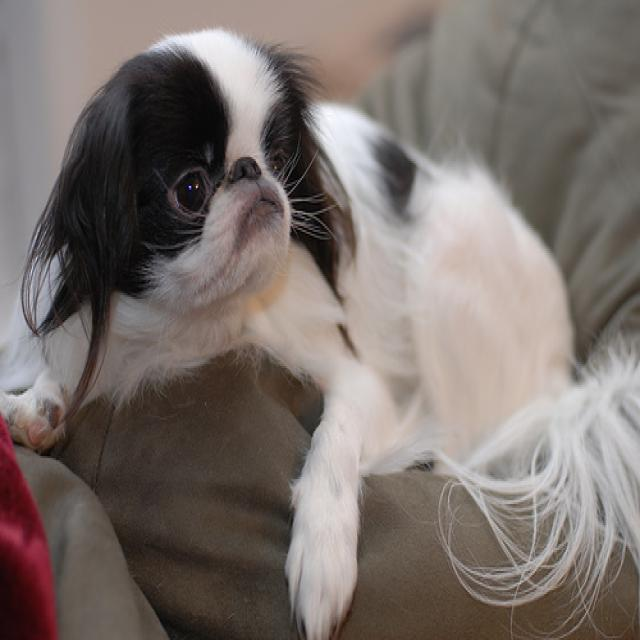dog-japanese_chin: (1, 15, 637, 636)
